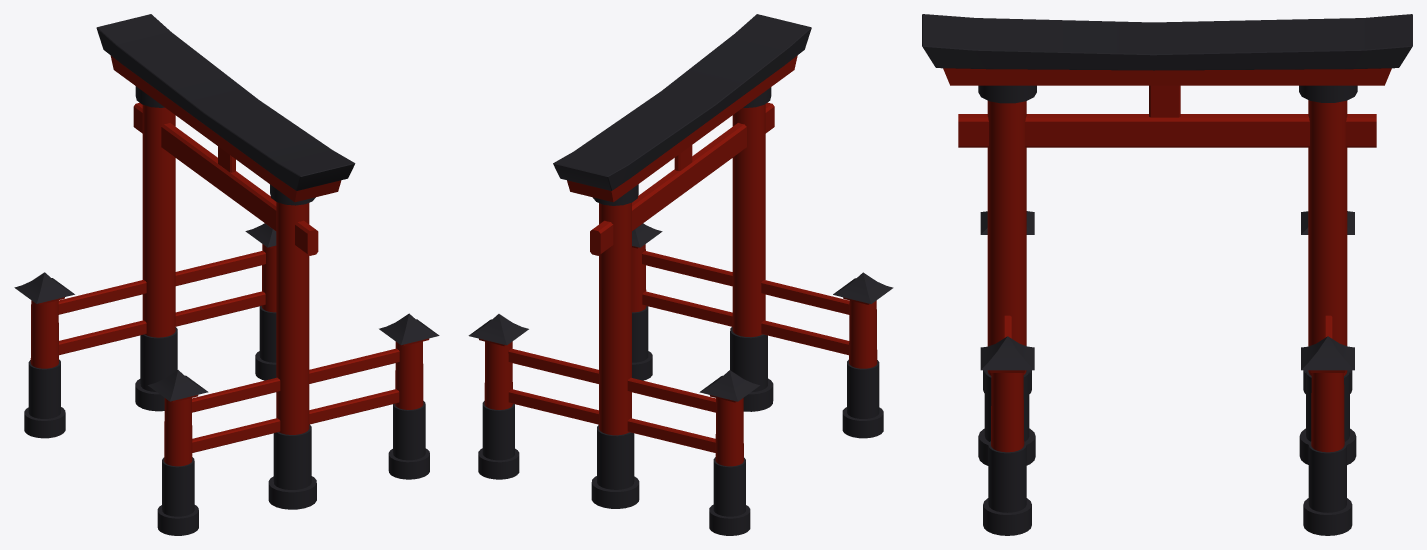
The model's file is arch8.fbx.
3 views of the same model, side by side, from view 1: azimuth 30°, elevation 25°; view 2: azimuth 150°, elevation 25°; view 3: azimuth 270°, elevation 25° (orthographic). The views are drawn at different scales.
Parts seen in each view (by area): view 1: arch8; view 2: arch8; view 3: arch8.
Part boxes in pixels (<box>): arch8: <box>14,14,439,535</box>; arch8: <box>468,14,893,535</box>; arch8: <box>922,14,1412,535</box>.
Size of the model in its own units: 901 by 1134 by 1181.
